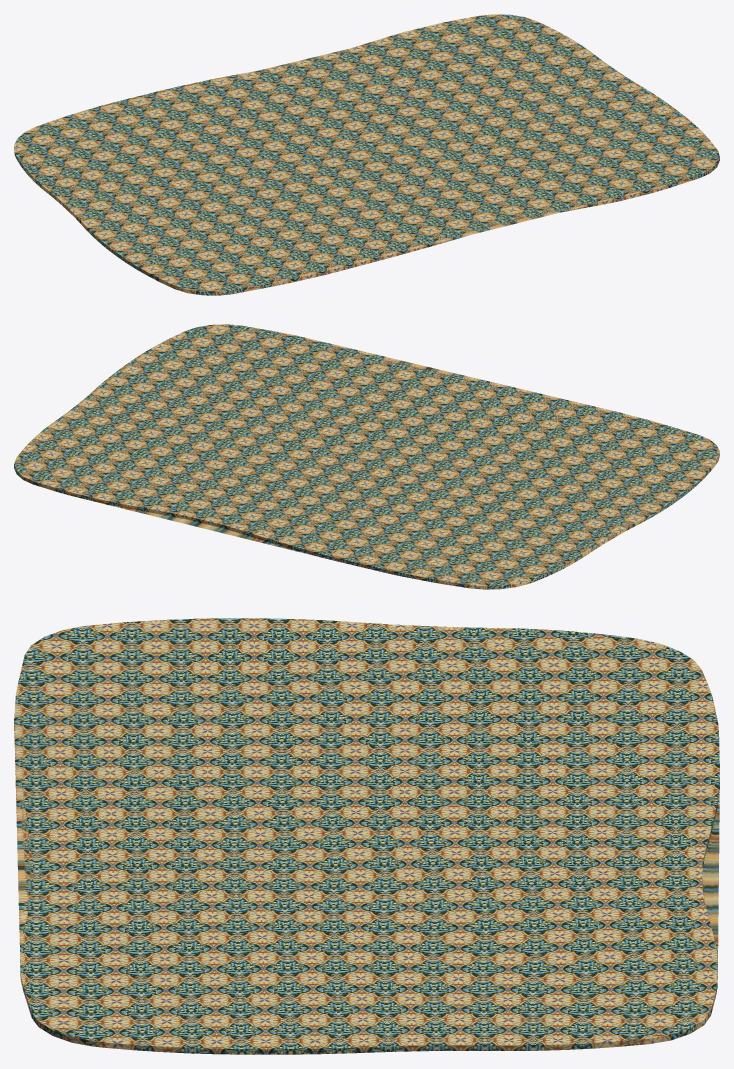
File: Herringbone Rug.FBX
3 views of the same model, one above another, from view 1: azimuth 30°, elevation 25°; view 2: azimuth 150°, elevation 25°; view 3: azimuth 270°, elevation 25° (orthographic). The views are drawn at different scales.
Visible parts, largest first — view 1: Herringbone Rug; view 2: Herringbone Rug; view 3: Herringbone Rug.
Part boxes in pixels (left/top/right/bottom): Herringbone Rug: left=14, top=14, right=719, bottom=295; Herringbone Rug: left=14, top=324, right=719, bottom=589; Herringbone Rug: left=14, top=618, right=719, bottom=1054.
Size of the model in its own units: 5.45 by 0.0326 by 3.77.
Materials: 1 (1 with a texture image).
